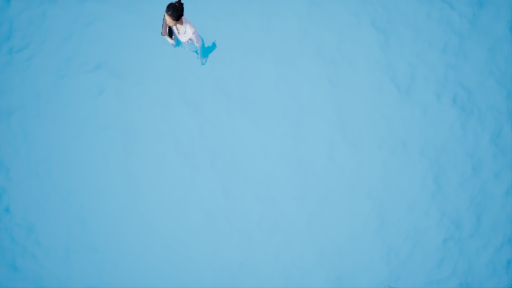person: (151, 2, 217, 68)
